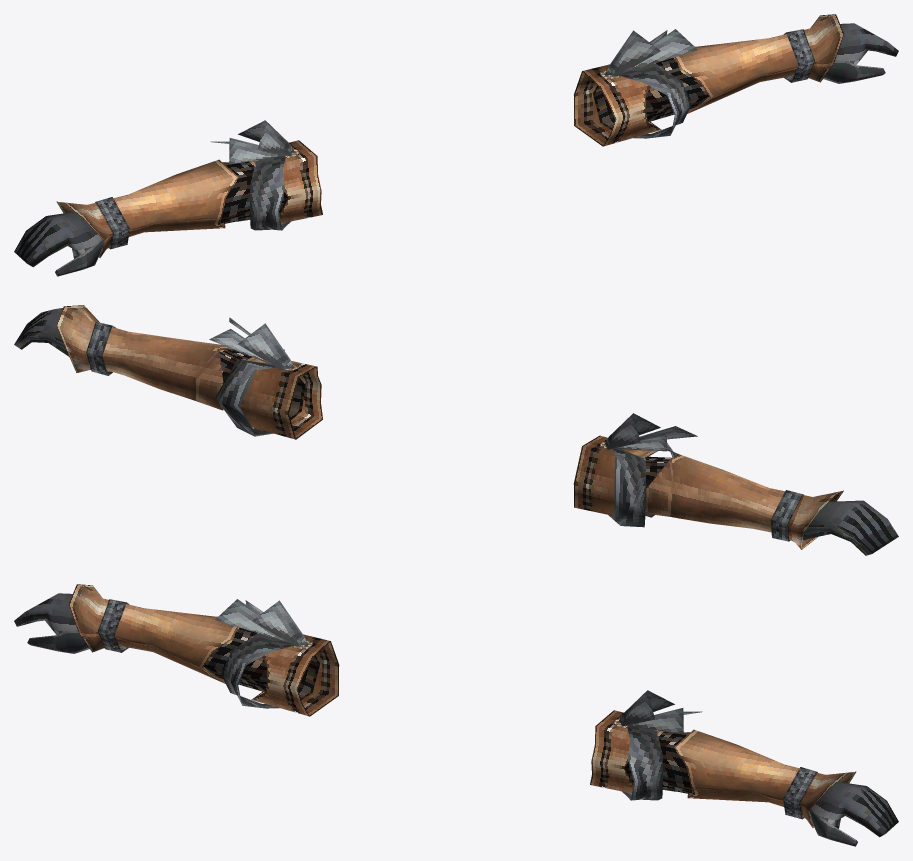
The model's file is f_gauntlet127.obj.
3 views of the same model, one above another, from view 1: azimuth 30°, elevation 25°; view 2: azimuth 150°, elevation 25°; view 3: azimuth 330°, elevation 25° (orthographic).
Parts seen in each view (by area): view 1: mesh00, mesh01; view 2: mesh00, mesh01; view 3: mesh00, mesh01.
Part boxes in pixels (x1,y1,x2,y2): mesh00: [14, 14, 898, 276]; mesh01: [95, 29, 814, 249]; mesh00: [14, 305, 898, 555]; mesh01: [86, 317, 803, 541]; mesh00: [14, 584, 898, 846]; mesh01: [98, 599, 817, 819].
Bounding box in the file's own units: 172 × 19.71 × 17.55.
2 materials, 2 textured.
